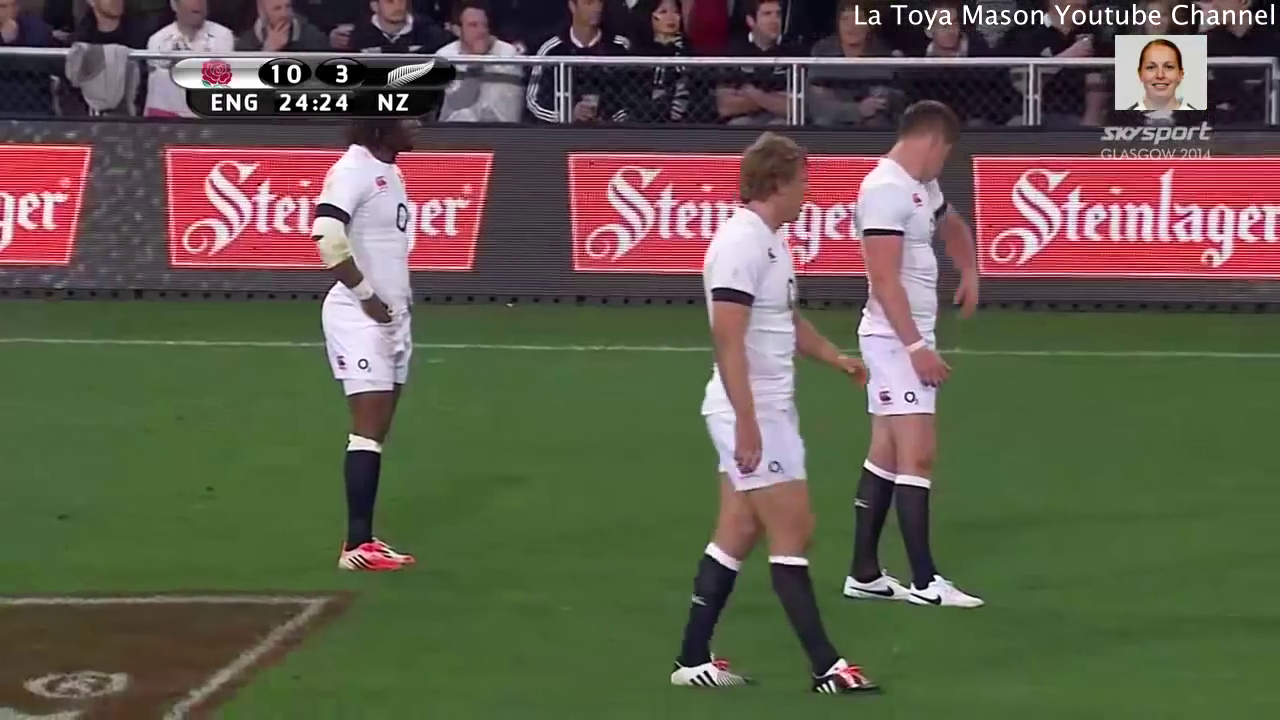player: (659, 114, 899, 701), (829, 86, 1000, 615), (306, 98, 449, 585)
